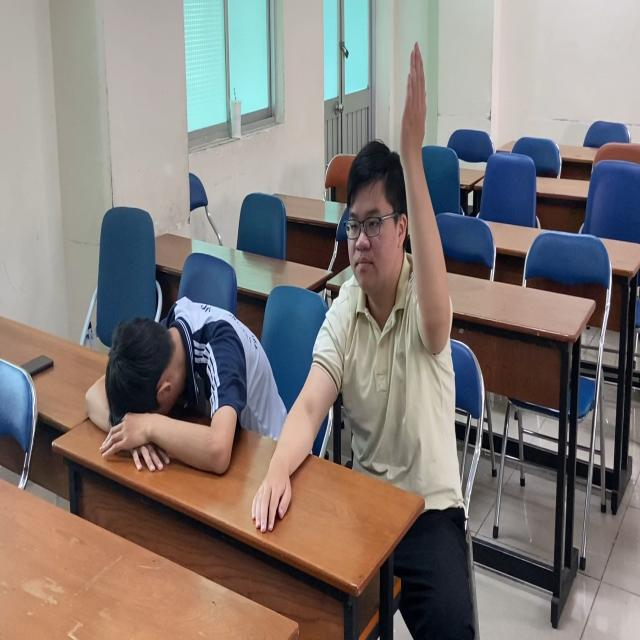raise_hand: (295, 40, 460, 513)
sleep: (87, 294, 279, 472)
